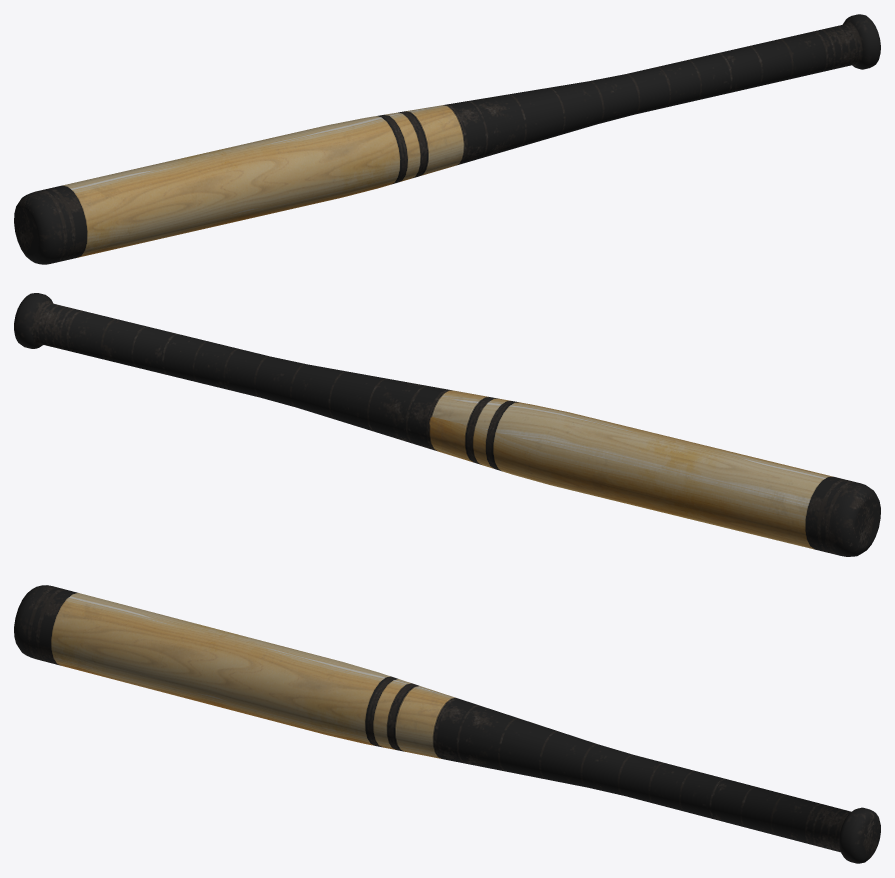
File: baseball_bat.glb
3 renders of one model, top to bottom at view 1: azimuth 30°, elevation 25°; view 2: azimuth 150°, elevation 25°; view 3: azimuth 330°, elevation 25°, orthographic.
Parts seen in each view (by area): view 1: Baseball_Bat; view 2: Baseball_Bat; view 3: Baseball_Bat.
Boxes of the visible parts, x1,y1,x2,y2 form: Baseball_Bat: (14,14,880,264); Baseball_Bat: (14,293,880,556); Baseball_Bat: (14,585,880,863).
Size of the model in its own units: 0.8005 by 0.0633 by 0.0649.
1 material, 1 textured.
